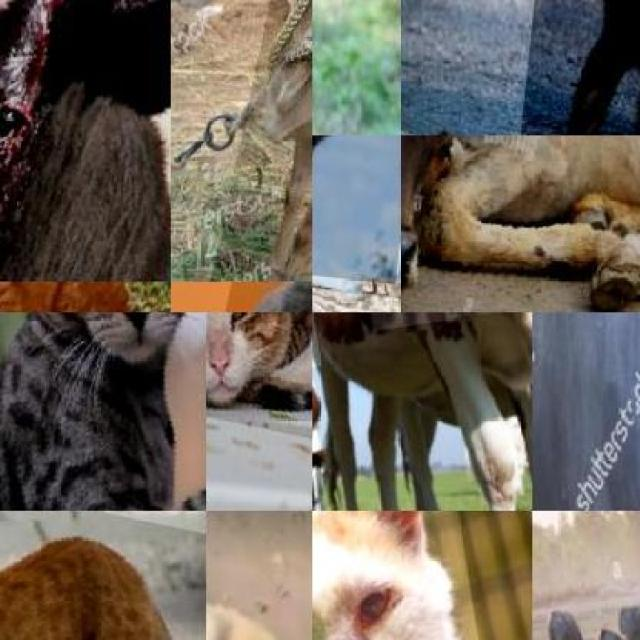buffalo: (532, 312, 640, 511), (549, 598, 591, 640), (614, 594, 640, 640), (532, 614, 548, 640)
cat: (0, 312, 206, 511), (312, 511, 532, 640), (0, 511, 206, 640), (511, 0, 640, 135), (312, 135, 400, 283)
cow: (0, 0, 171, 282), (400, 136, 640, 312), (203, 0, 312, 282)
injured: (0, 0, 132, 281)
